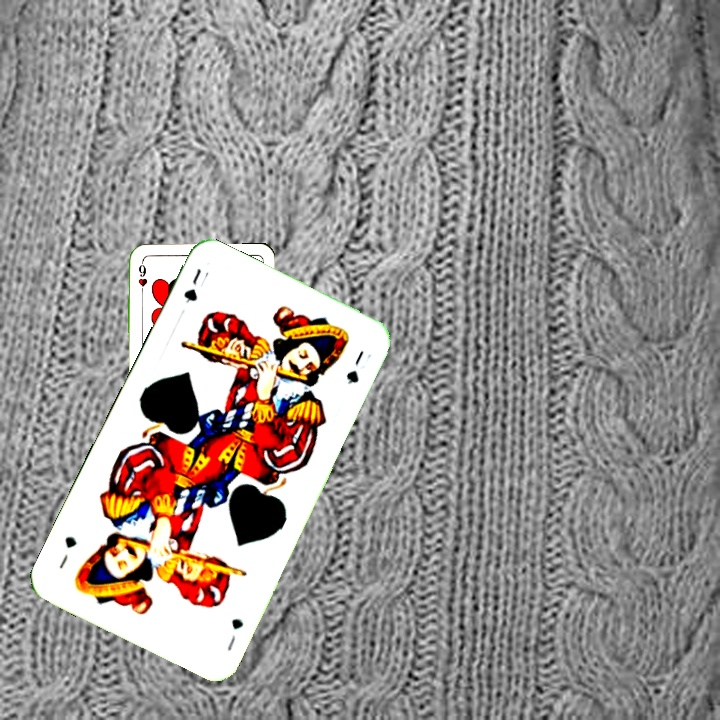GU: (179, 264, 204, 306), (223, 614, 246, 654)
H9: (134, 259, 149, 299)
